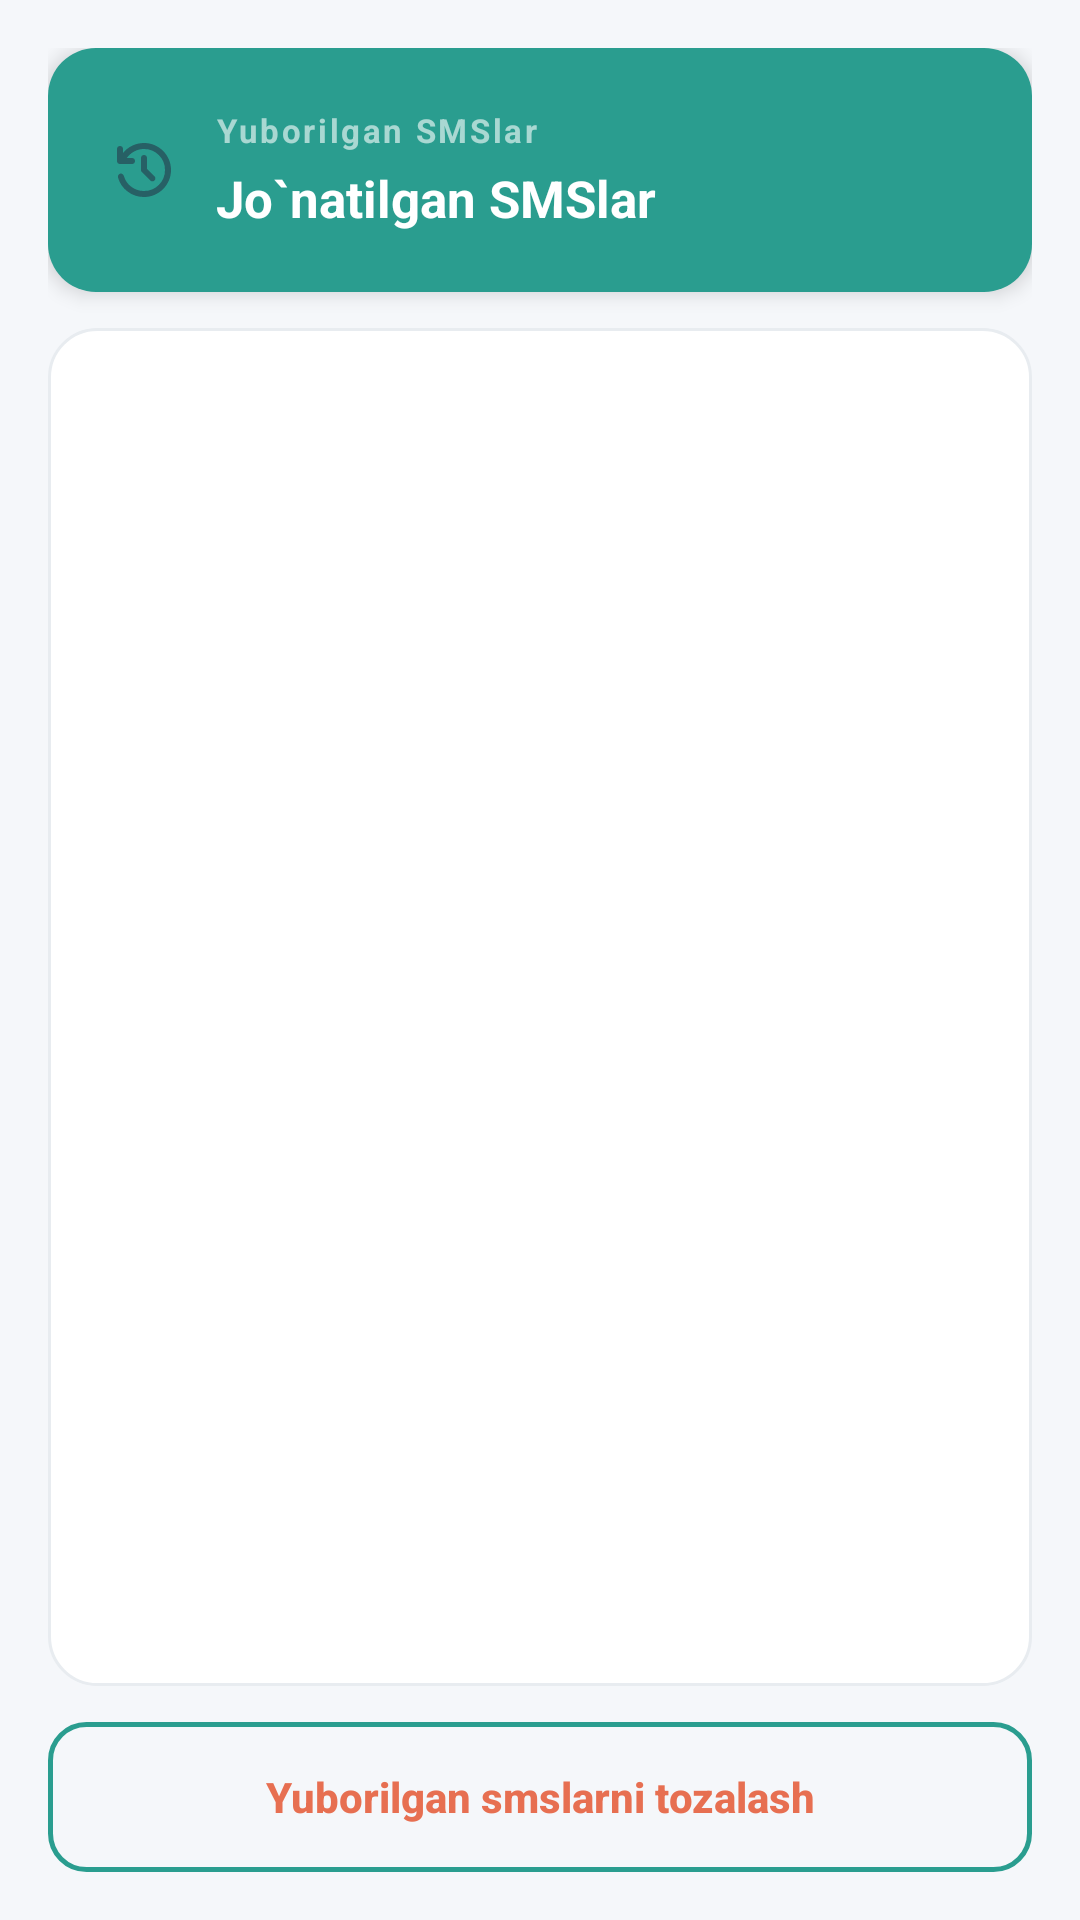

Named icons in this screenshot (1080 x 1920) and their centers, [x,y]:
history: [144,170]
